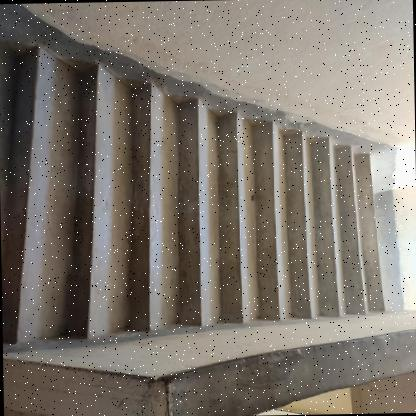stair: (0, 61, 406, 342)
